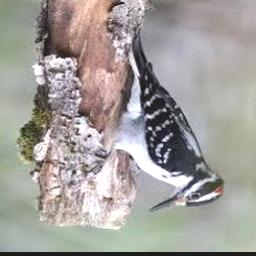Woodpecker: (112, 31, 224, 213)
